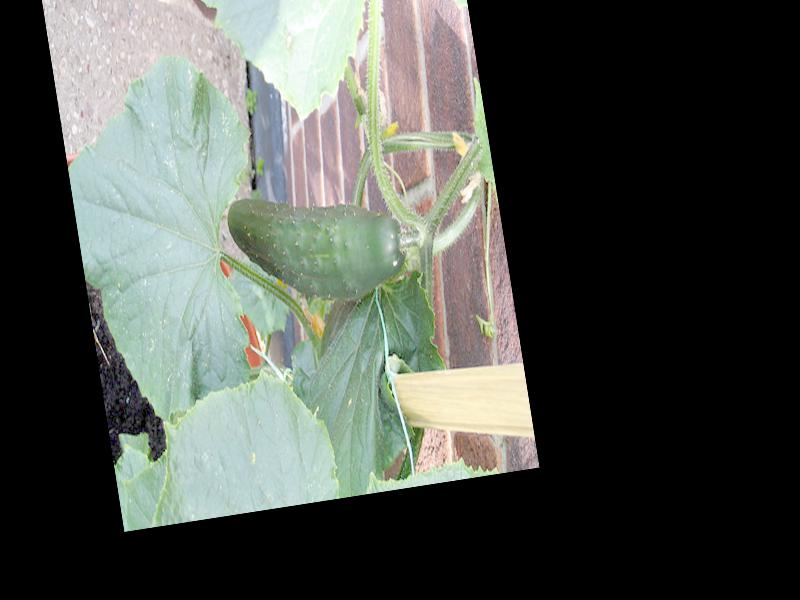Cucumber: (223, 172, 410, 315)
